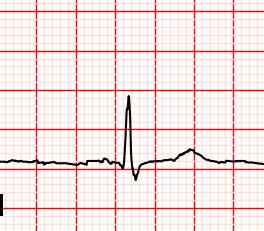LVH: (168, 143, 208, 166)
ST Depression: (116, 159, 147, 183)
